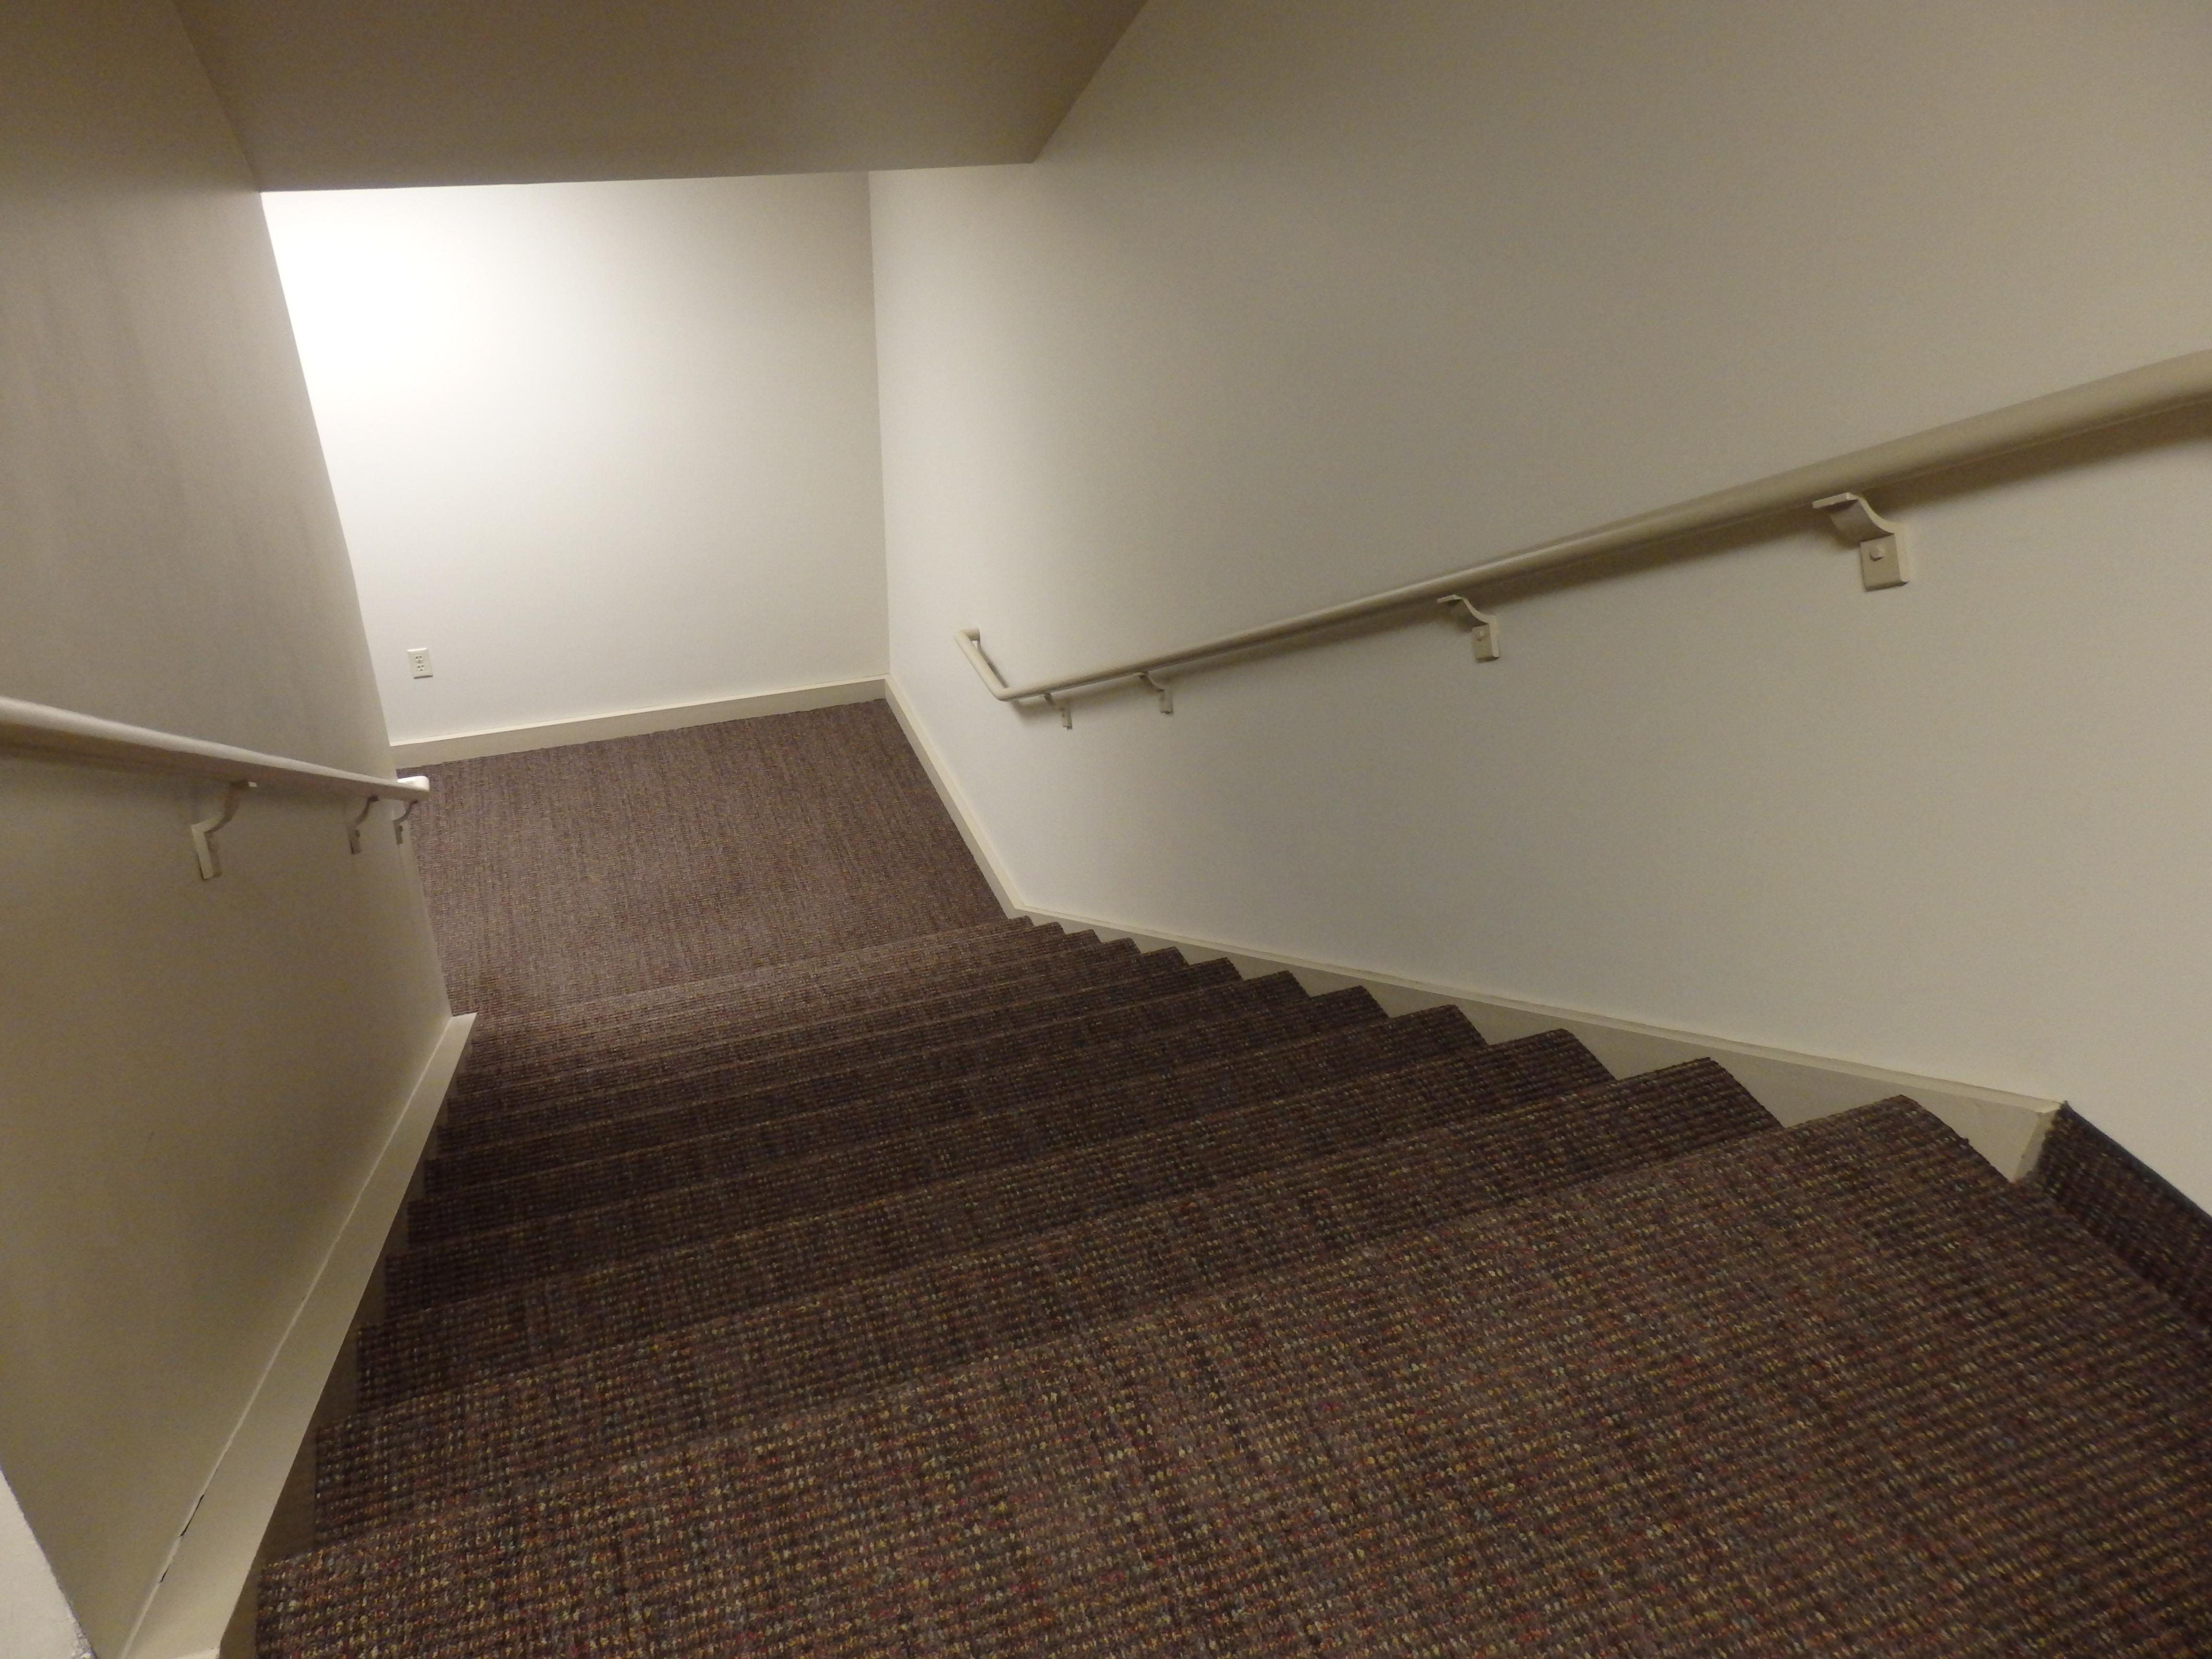stairs_down: (409, 882, 1942, 1621)
